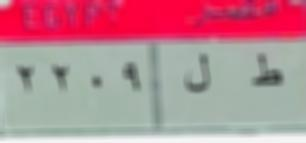0: (84, 66, 108, 100)
2: (45, 59, 78, 99), (13, 61, 42, 95)
9: (119, 56, 146, 98)
Taa: (241, 53, 286, 91)
laam: (179, 51, 215, 98)
